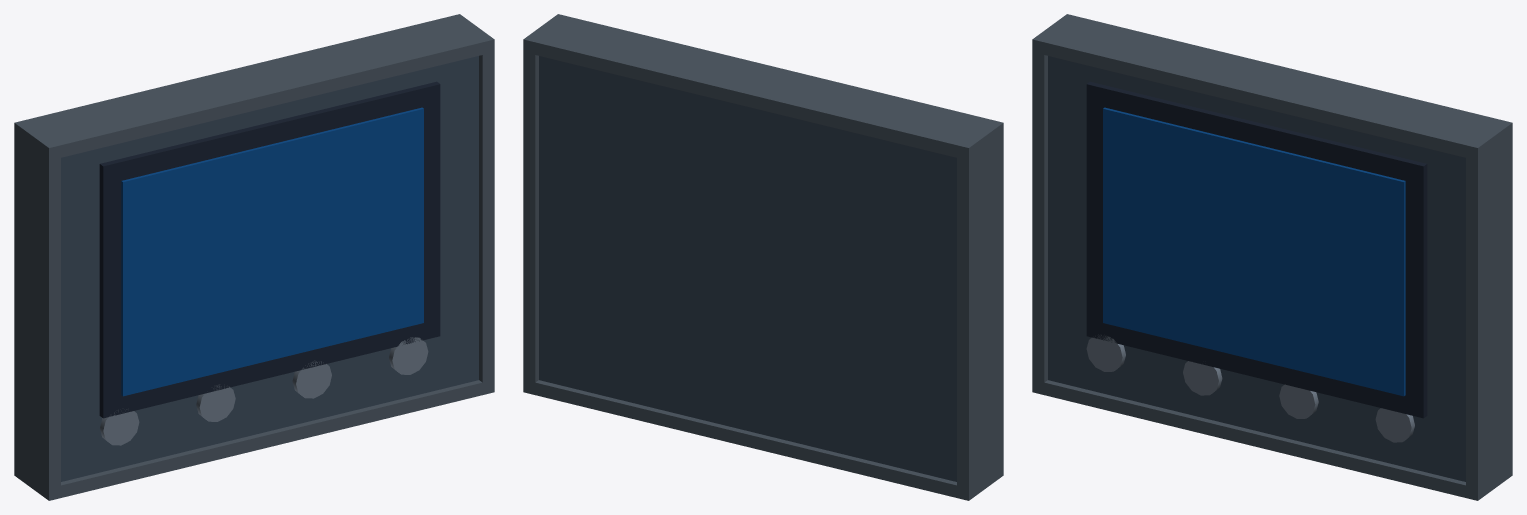
The model's file is hmi-panel.glb.
3 renders of one model, left to right at view 1: azimuth 30°, elevation 25°; view 2: azimuth 150°, elevation 25°; view 3: azimuth 330°, elevation 25°, orthographic.
Size of the model in its own units: 0.74 by 0.56 by 0.105.
